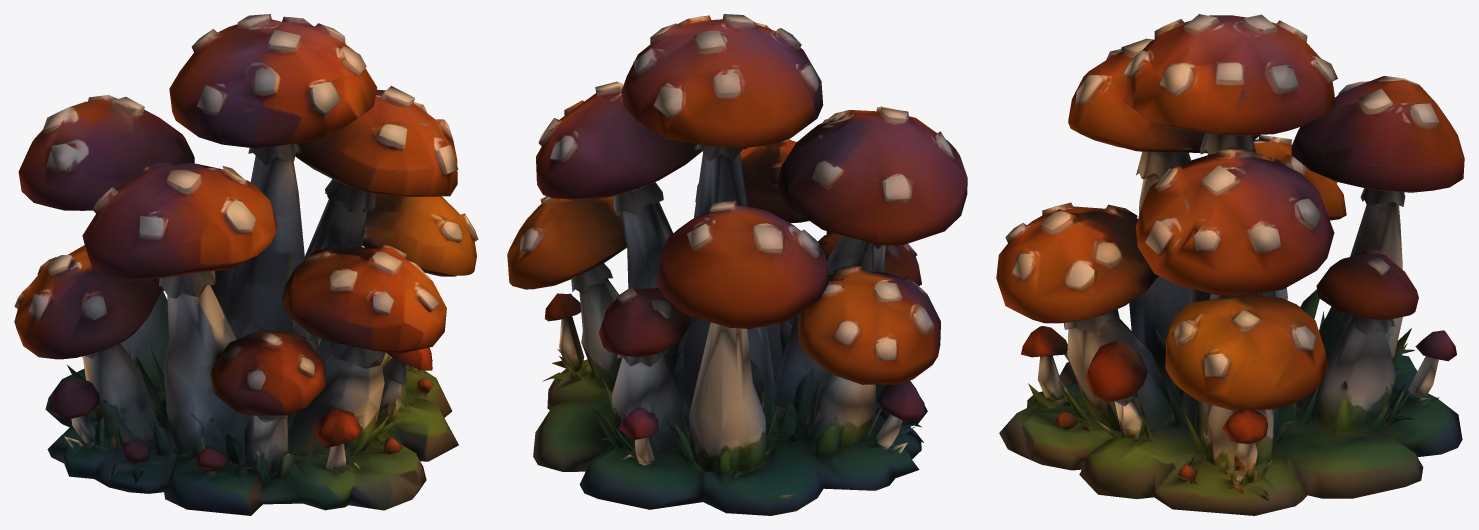
File: mushroom2.opt.glb
3 renders of one model, left to right at view 1: azimuth 30°, elevation 25°; view 2: azimuth 150°, elevation 25°; view 3: azimuth 270°, elevation 25°, orthographic. The views are drawn at different scales.
Parts seen in each view (by area): view 1: node_0; view 2: node_0; view 3: node_0.
Boxes of the visible parts, x1,y1,x2,y2 form: node_0: (14,14,478,515); node_0: (507,14,967,515); node_0: (996,14,1464,515).
Bounding box in the file's own units: 0.9374 × 0.8395 × 0.8602.
Materials: 1 (1 with a texture image).
